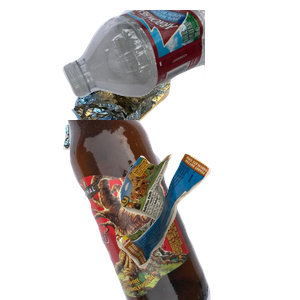glass: (65, 120, 300, 300)
metal: (61, 54, 225, 202)
plastic: (60, 10, 300, 100)
trash: (114, 151, 300, 300)
